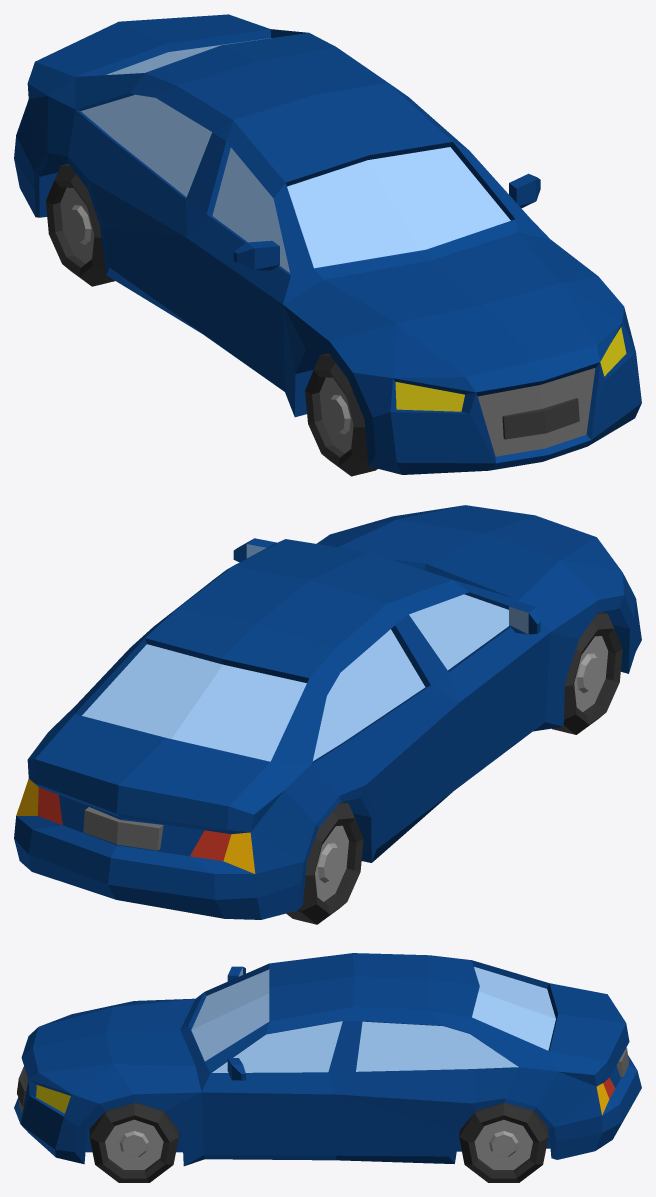
Rendered from car-8.fbx.
3 views of the same model, one above another, from view 1: azimuth 30°, elevation 25°; view 2: azimuth 150°, elevation 25°; view 3: azimuth 270°, elevation 25° (orthographic). The views are drawn at different scales.
Visible parts, largest first — view 1: Car 2, Wheel2-2, Wheel2-1; view 2: Car 2, Wheel2-1, Wheel2-2; view 3: Car 2, Wheel2-3, Wheel2-4.
Boxes of the visible parts, <box> form: Car 2: <box>14,14,641,474</box>; Wheel2-2: <box>305,353,377,476</box>; Wheel2-1: <box>46,164,114,286</box>; Car 2: <box>14,505,641,919</box>; Wheel2-1: <box>286,802,363,924</box>; Wheel2-2: <box>552,612,622,734</box>; Car 2: <box>14,953,641,1166</box>; Wheel2-3: <box>459,1103,548,1182</box>; Wheel2-4: <box>89,1102,178,1182</box>.
Size of the model in its own units: 464 by 336 by 1167.
